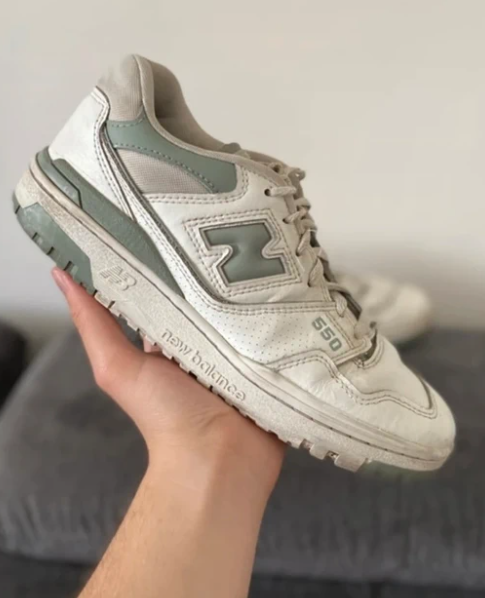new_balance_550_grey: (8, 51, 458, 485)
